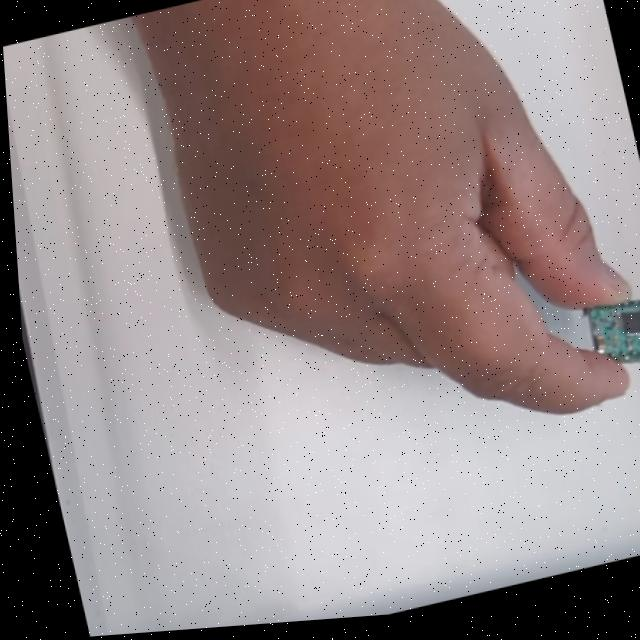Chip: (579, 284, 640, 380)
